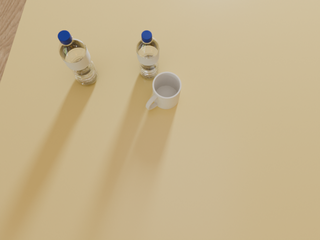bottle: (58, 30, 98, 85), (136, 30, 159, 79)
cup: (146, 72, 181, 110)
